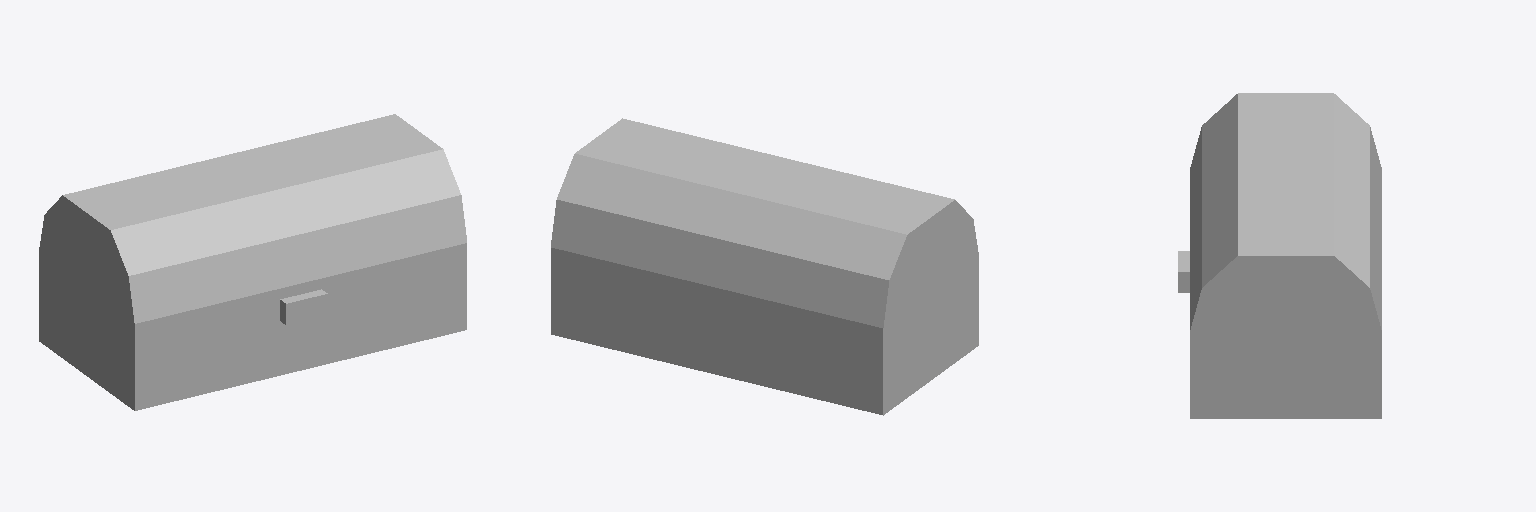
File: Chest.obj
3 renders of one model, left to right at view 1: azimuth 30°, elevation 25°; view 2: azimuth 150°, elevation 25°; view 3: azimuth 270°, elevation 25°, orthographic.
Visible parts, largest first — view 1: Cube.001_Cube.002; view 2: Cube.001_Cube.002; view 3: Cube.001_Cube.002.
Part boxes in pixels (left/top/right/bottom): Cube.001_Cube.002: left=39, top=114, right=466, bottom=410; Cube.001_Cube.002: left=551, top=118, right=978, bottom=415; Cube.001_Cube.002: left=1178, top=93, right=1381, bottom=418.
Size of the model in its own units: 2 by 0.9375 by 1.06.